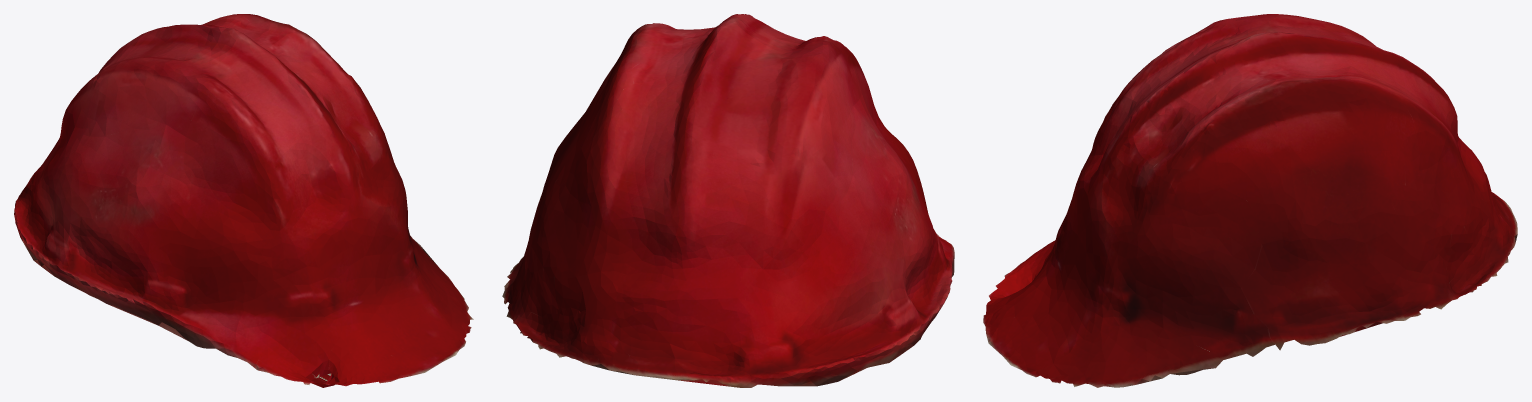
The model's file is capacete.glb.
The picture shows the model from 3 angles, left to right: view 1: azimuth 30°, elevation 25°; view 2: azimuth 150°, elevation 25°; view 3: azimuth 270°, elevation 25°; orthographic projection. The views are drawn at different scales.
Parts seen in each view (by area): view 1: model_Capacete_gisele_20250207_224655042; view 2: model_Capacete_gisele_20250207_224655042; view 3: model_Capacete_gisele_20250207_224655042.
Boxes of the visible parts, box(x1,y1,x2,y2) form: model_Capacete_gisele_20250207_224655042: box(14, 14, 473, 387); model_Capacete_gisele_20250207_224655042: box(502, 14, 954, 387); model_Capacete_gisele_20250207_224655042: box(983, 14, 1517, 387).
Size of the model in its own units: 0.5785 by 0.4452 by 0.7494.
1 material, 1 textured.
